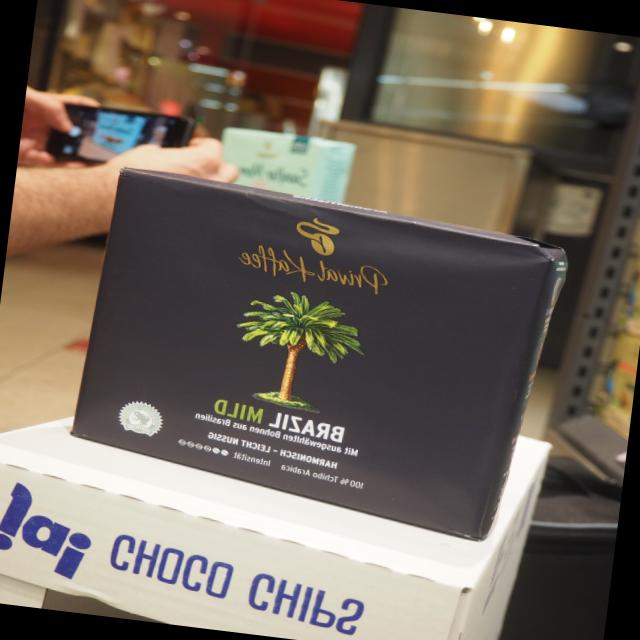BM Gemahlen: (62, 161, 578, 551)
